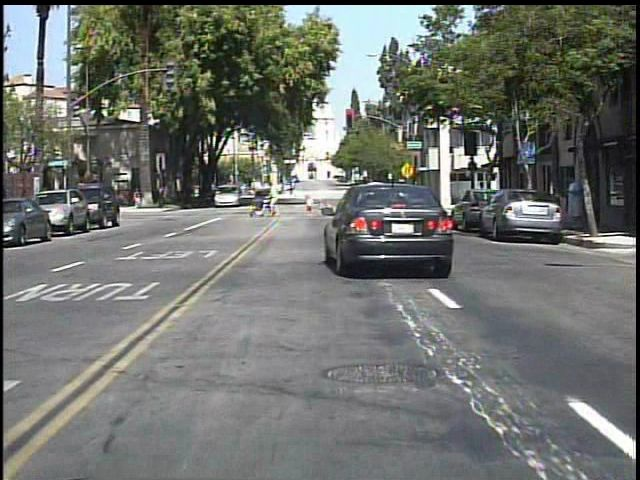person: (559, 171, 582, 235), (267, 179, 285, 219), (155, 183, 169, 211), (132, 186, 143, 212)
